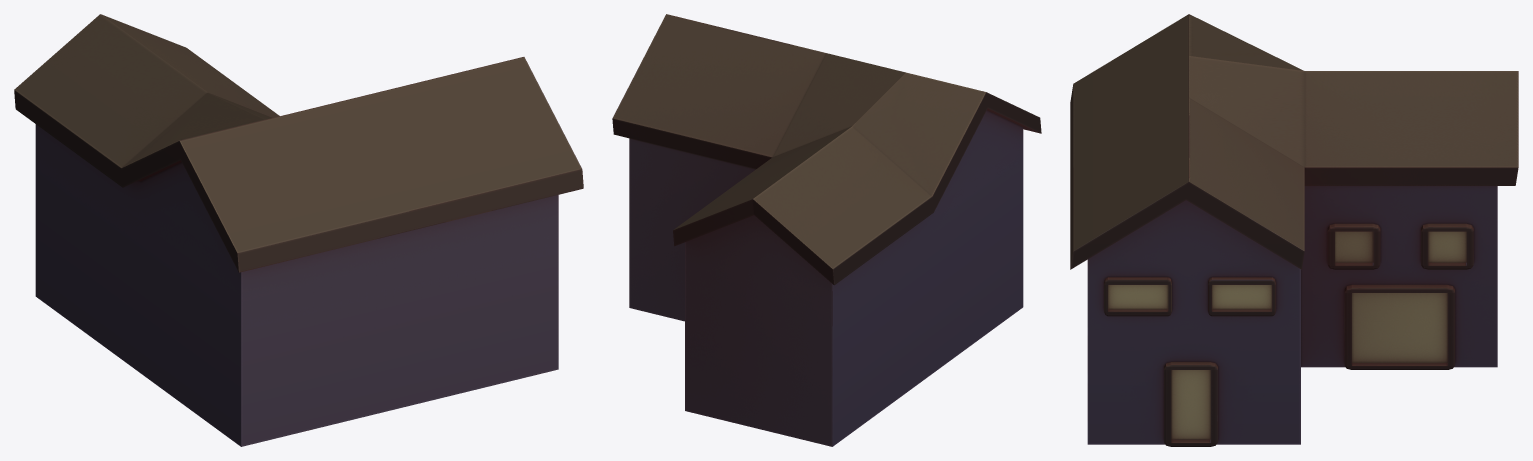
File: BigHouse.fbx
The picture shows the model from 3 angles, left to right: view 1: azimuth 30°, elevation 25°; view 2: azimuth 150°, elevation 25°; view 3: azimuth 270°, elevation 25°; orthographic projection. The views are drawn at different scales.
Parts seen in each view (by area): view 1: BigHouse; view 2: BigHouse; view 3: BigHouse.
Boxes of the visible parts, left/top/right/bottom form: BigHouse: left=14, top=14, right=583, bottom=446; BigHouse: left=612, top=14, right=1041, bottom=446; BigHouse: left=1070, top=14, right=1518, bottom=446.
Size of the model in its own units: 166 by 125 by 187.
